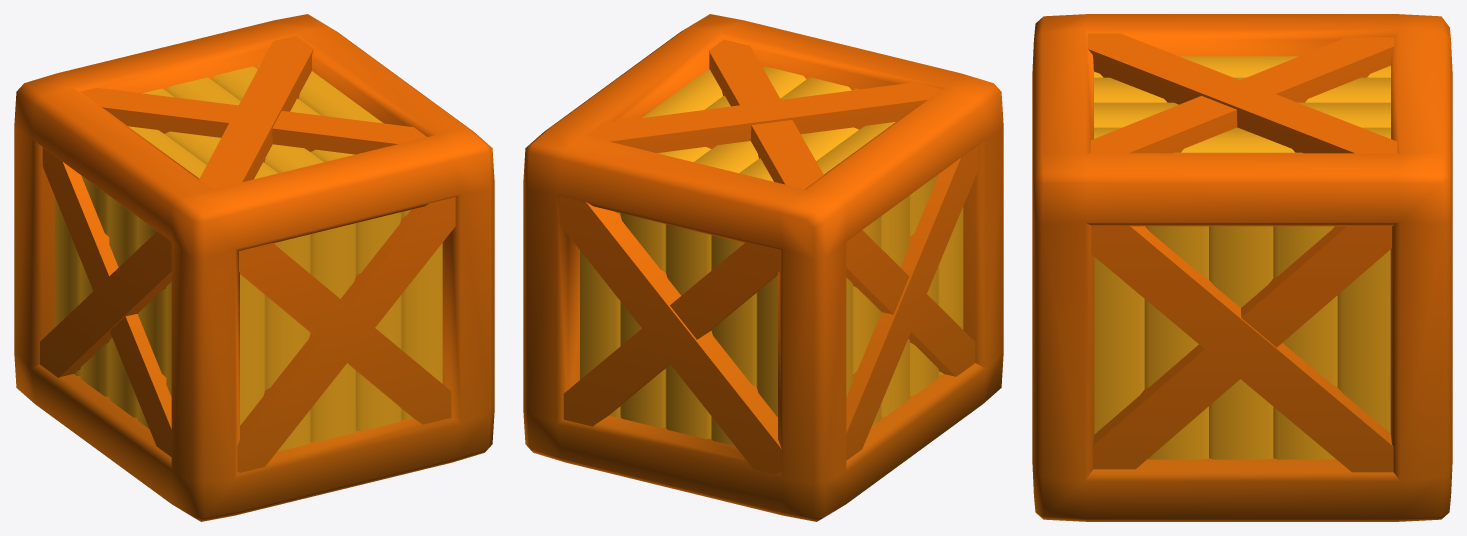
Rendered from Crate_01.glb.
The picture shows the model from 3 angles, left to right: view 1: azimuth 30°, elevation 25°; view 2: azimuth 150°, elevation 25°; view 3: azimuth 270°, elevation 25°; orthographic projection. The views are drawn at different scales.
Parts seen in each view (by area): view 1: Crate_01; view 2: Crate_01; view 3: Crate_01.
Part boxes in pixels (x1=…): Crate_01: x1=14, y1=14, x2=494, y2=521; Crate_01: x1=523, y1=14, x2=1003, y2=521; Crate_01: x1=1032, y1=14, x2=1452, y2=521.
Size of the model in its own units: 0.7074 by 0.6952 by 0.7494.
1 material, 1 textured.
